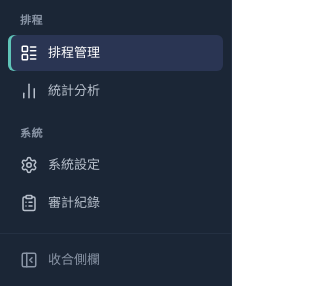
it: Sidebar：收合 › 再按一次展開：寫入 0、回到 232px
The width and height of the screenshot is (320, 303).
Click the button "收合側欄": click(116, 260) left=8, top=242, right=223, bottom=278
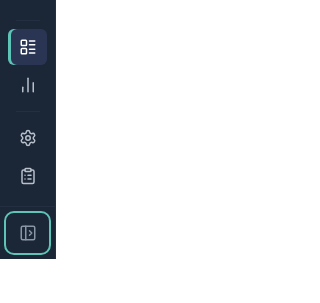
Click the button named "展開側欄": click(28, 233) left=8, top=215, right=47, bottom=251
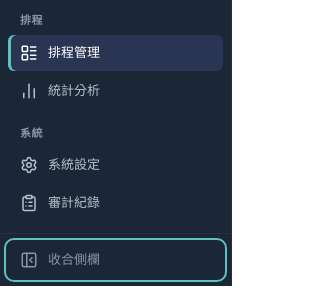
Result: the button "收合側欄" is shown at left=8, top=242, right=223, bottom=278
